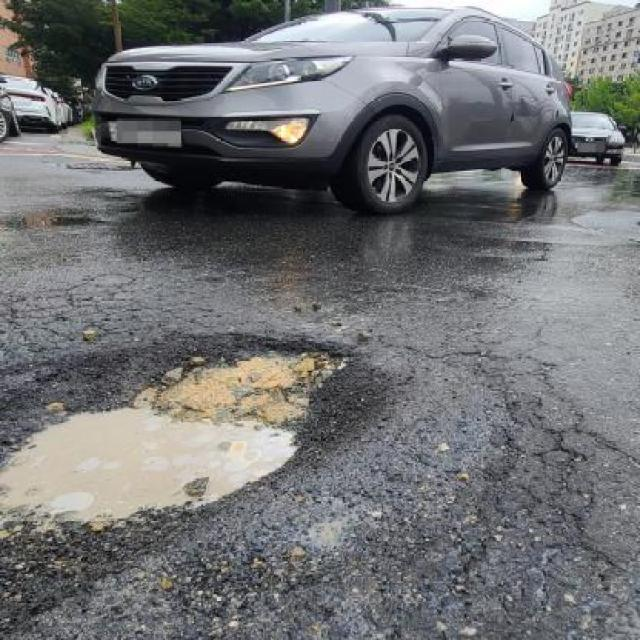Pothole: (0, 340, 374, 562)
